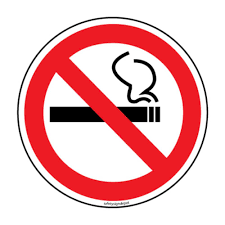nosmoking: (7, 4, 225, 196)
